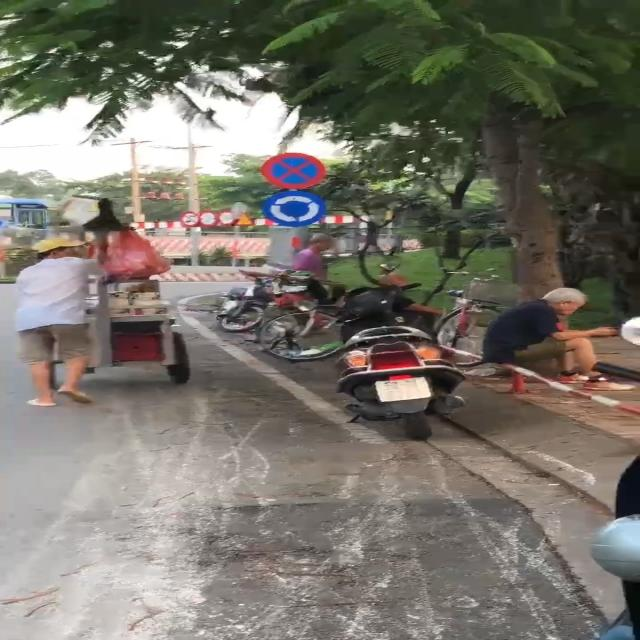Bien bao cam dung xe va do xe: (260, 152, 334, 189)
Bien bao noi giao nhau chay theo vong xuyen: (258, 190, 332, 228)
